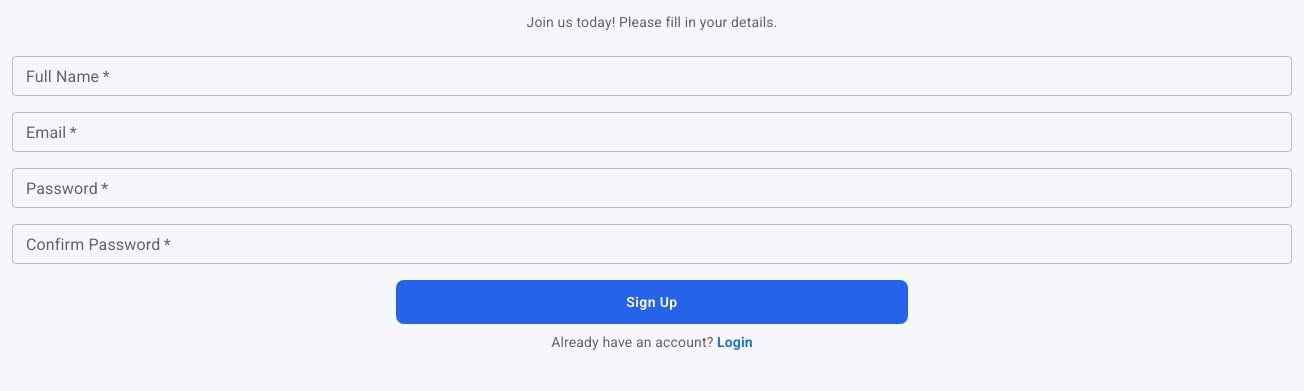
Test case: shows error for invalid email format
The width and height of the screenshot is (1304, 391).
Type "bala" into the field labelled "Full Name *" at [652, 76], box [12,56,1292,96]
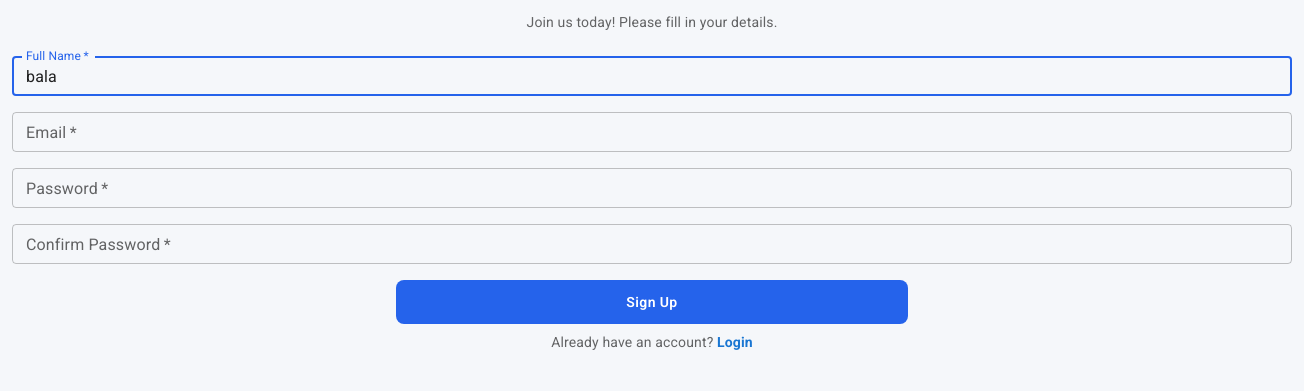
Type "invalid-email" into the field labelled "Email *" at [652, 132], box [12,112,1292,152]
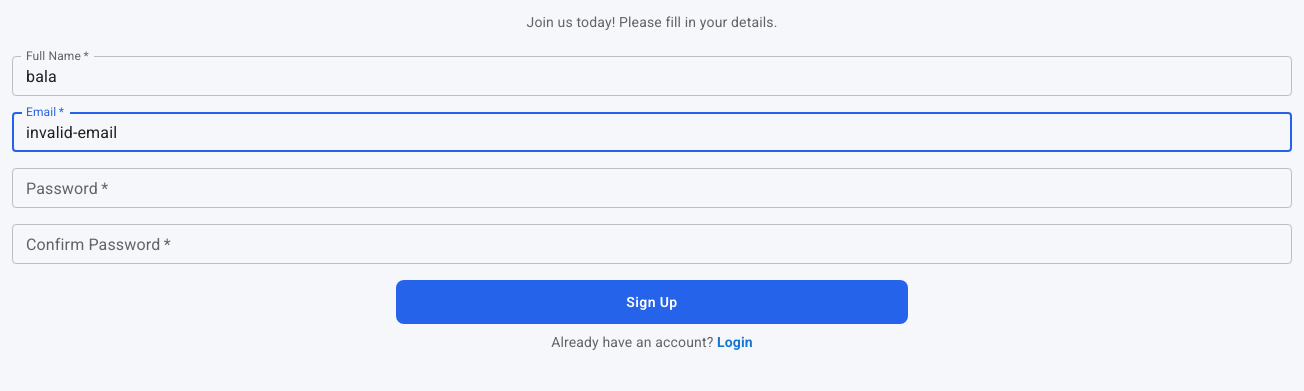
Type "Password123!" into the password field labelled "Password *" at [652, 188], box [12,168,1292,208]
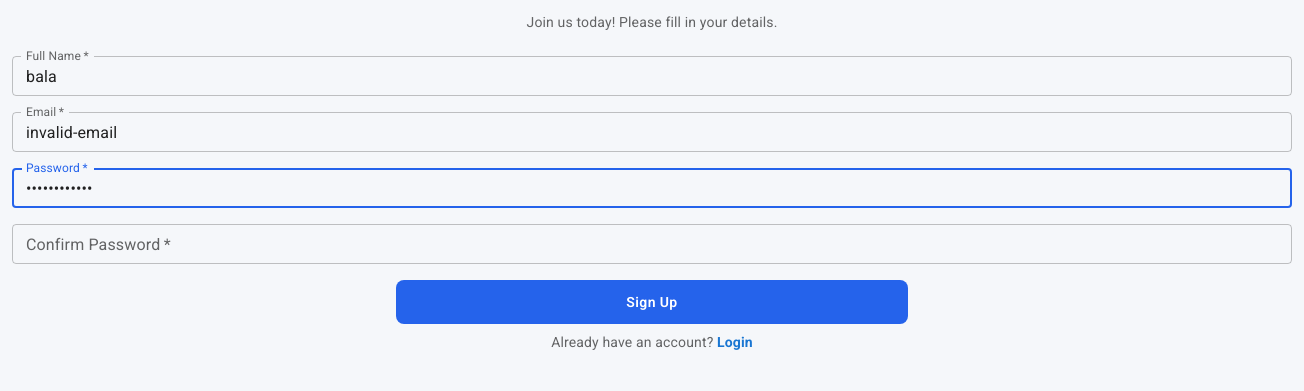
Type "Password123!" into the password field labelled "Confirm Password *" at [652, 244], box [12,224,1292,264]
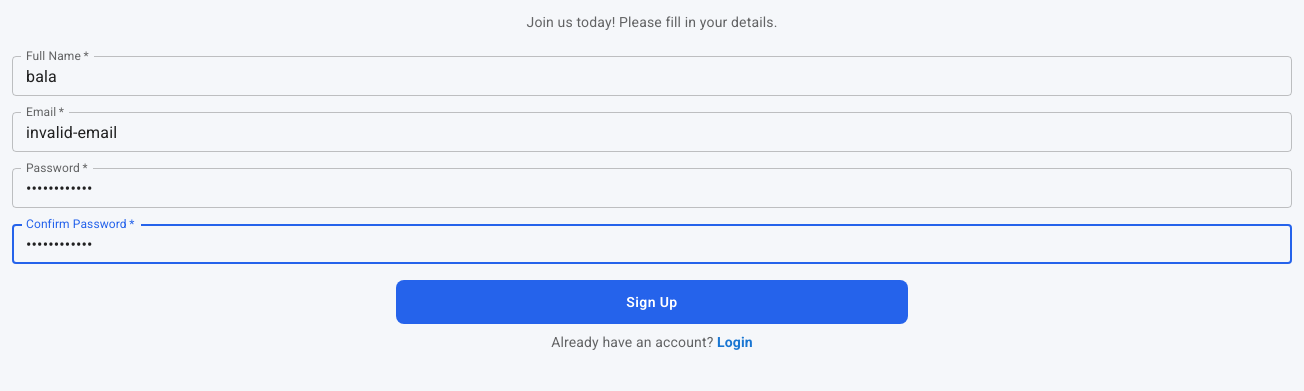
Click the button "Sign Up" at [652, 302], box [396,280,908,324]
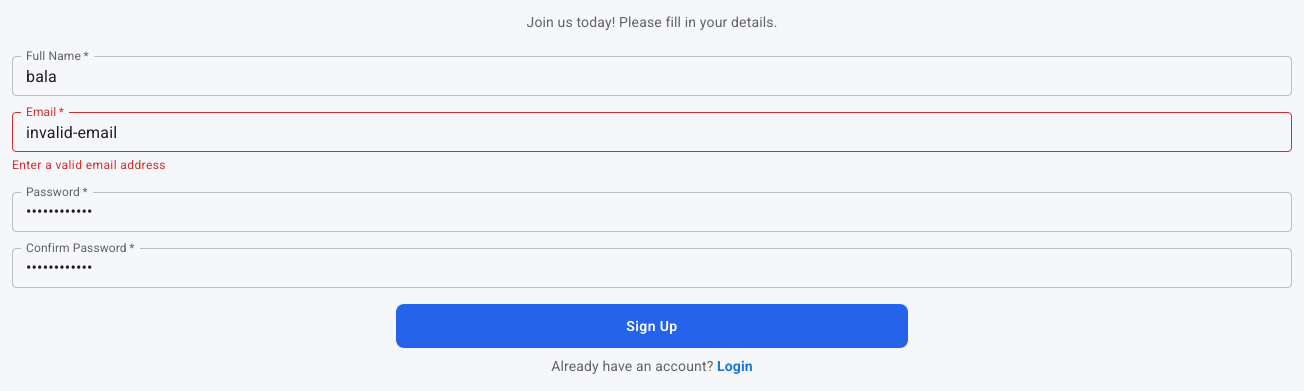
Expected: the text "Enter a valid email address" is shown, [12,158,166,172]
